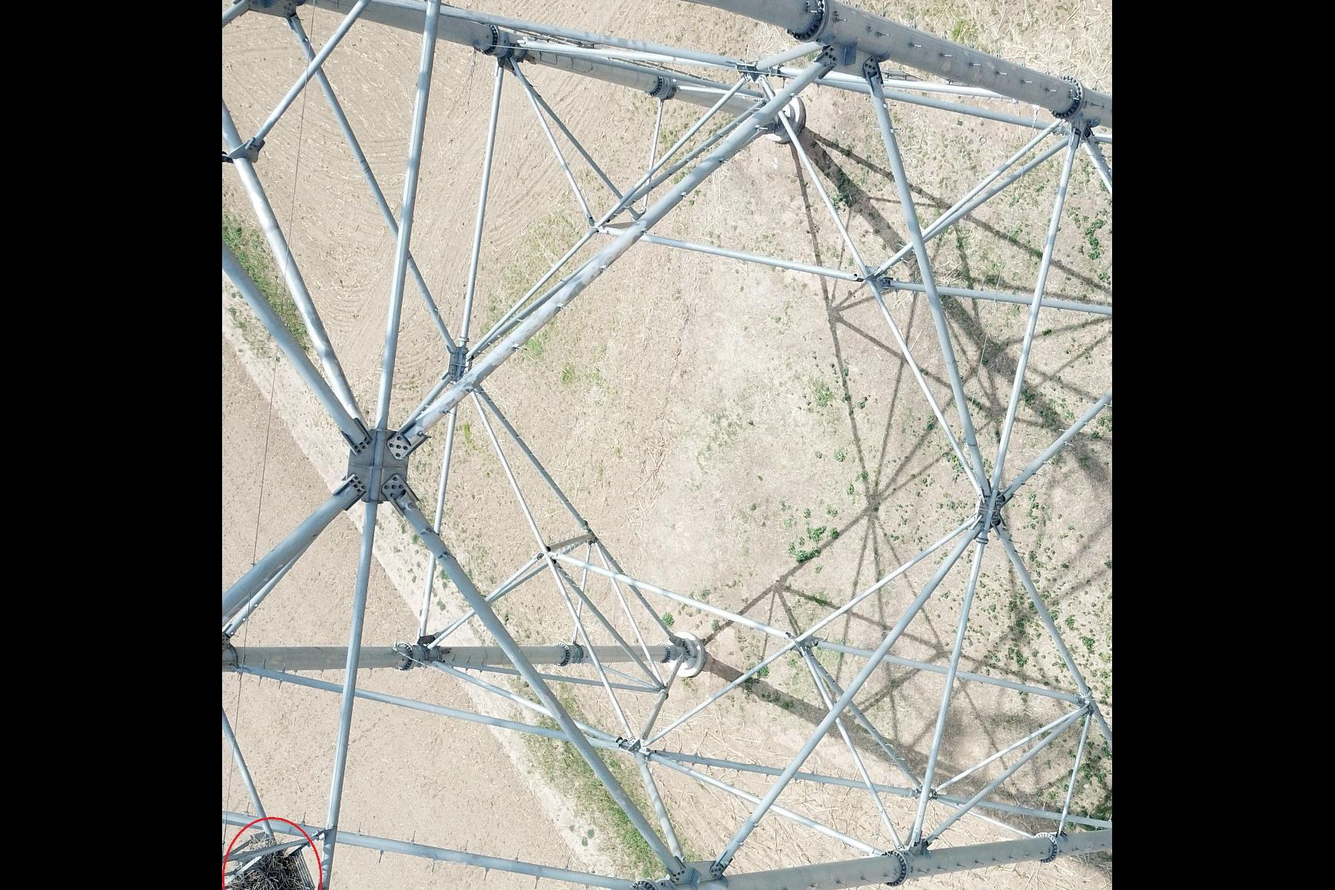nest: (227, 820, 325, 890)
